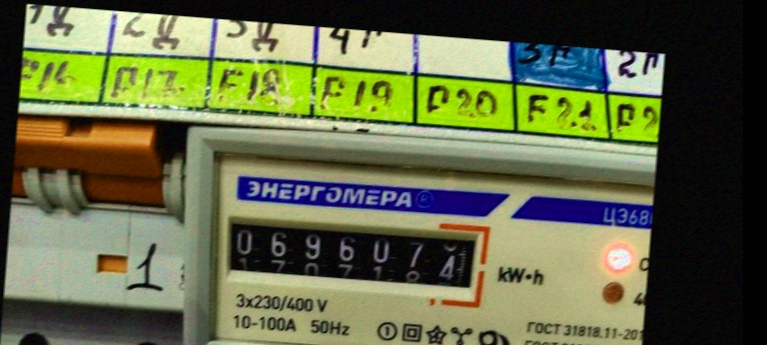0: (234, 225, 255, 255), (369, 234, 390, 263)
4: (436, 252, 456, 281)
6: (267, 228, 288, 257), (336, 232, 357, 261)
7: (404, 237, 425, 268)
9: (301, 231, 321, 260)
screen: (210, 200, 495, 309)
